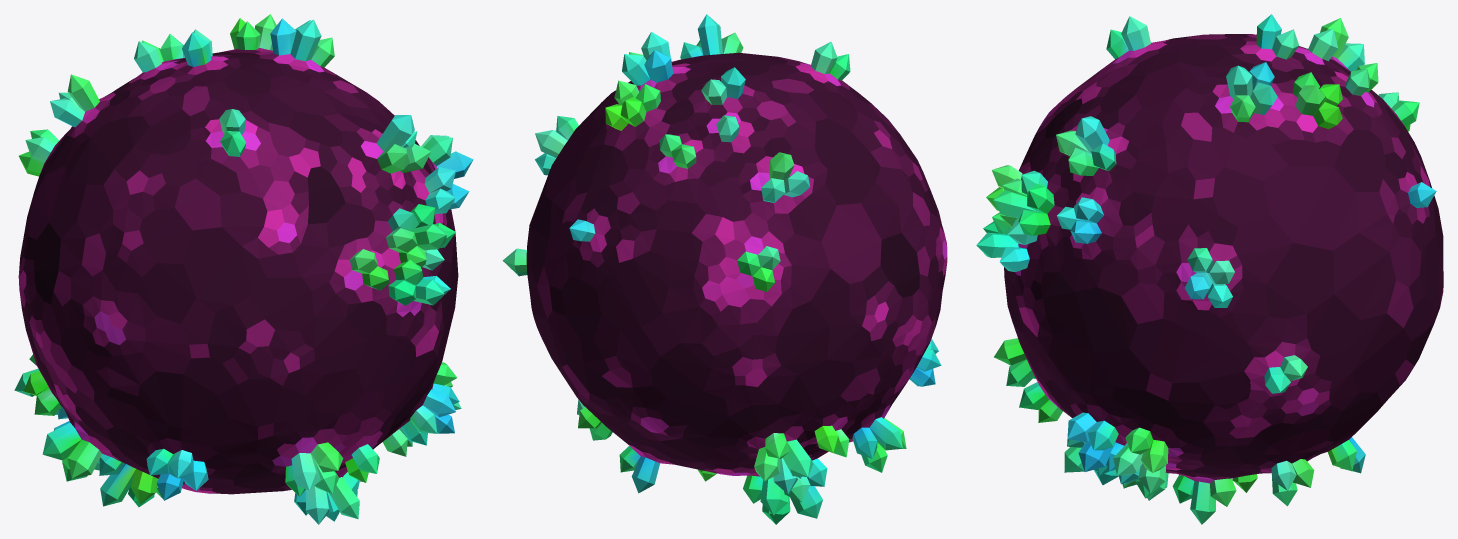
File: Crystal_planet_10.fbx
3 views of the same model, side by side, from view 1: azimuth 30°, elevation 25°; view 2: azimuth 150°, elevation 25°; view 3: azimuth 270°, elevation 25° (orthographic). The views are drawn at different scales.
Visible parts, largest first — view 1: file6; view 2: file6; view 3: file6.
Boxes of the visible parts, <box> form: file6: <box>14,14,473,524</box>; file6: <box>502,14,947,524</box>; file6: <box>976,14,1443,524</box>.
Bounding box in the file's own units: 2.15 × 2.32 × 2.1.
